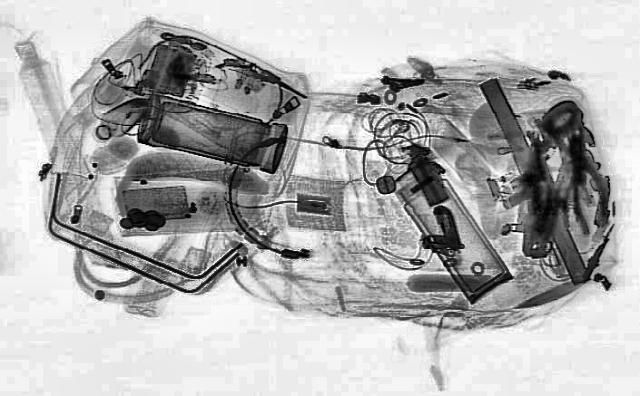Pliers: (554, 131, 620, 233)
